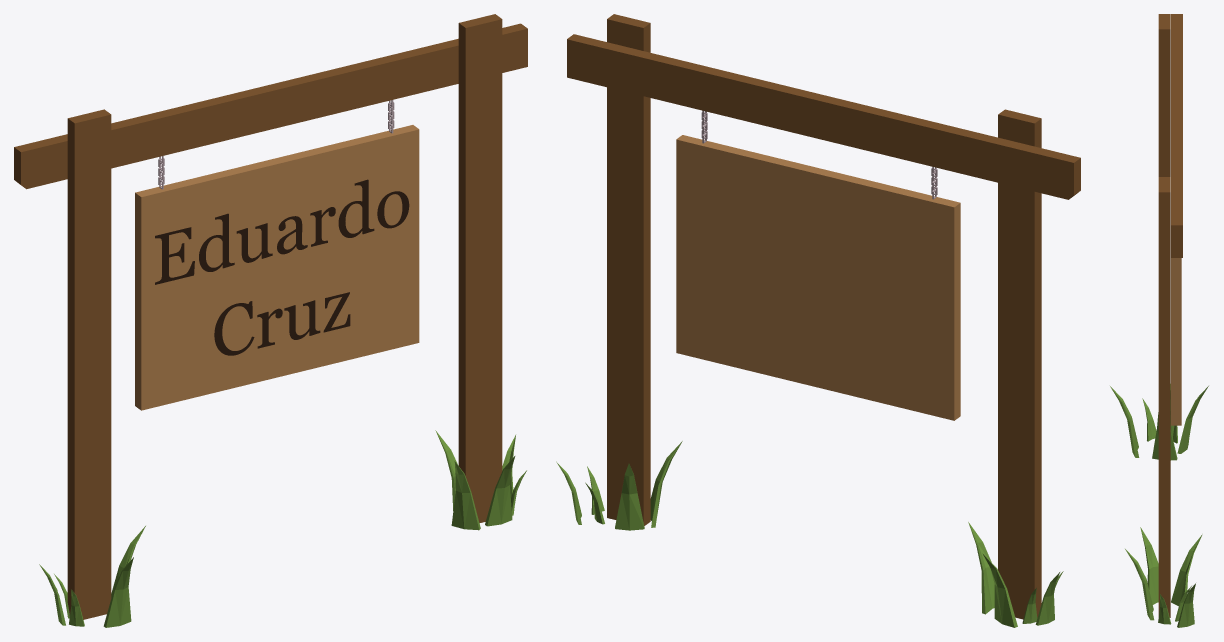
File: wooden_sign.glb
3 renders of one model, left to right at view 1: azimuth 30°, elevation 25°; view 2: azimuth 150°, elevation 25°; view 3: azimuth 270°, elevation 25°, orthographic. The views are drawn at different scales.
Visible parts, largest first — view 1: Sign; view 2: Sign; view 3: Sign.
Boxes of the visible parts, x1,y1,x2,y2 form: Sign: [14, 14, 527, 627]; Sign: [556, 14, 1080, 627]; Sign: [1110, 14, 1208, 627].
Bounding box in the file's own units: 20.58 × 19.24 × 4.11.
